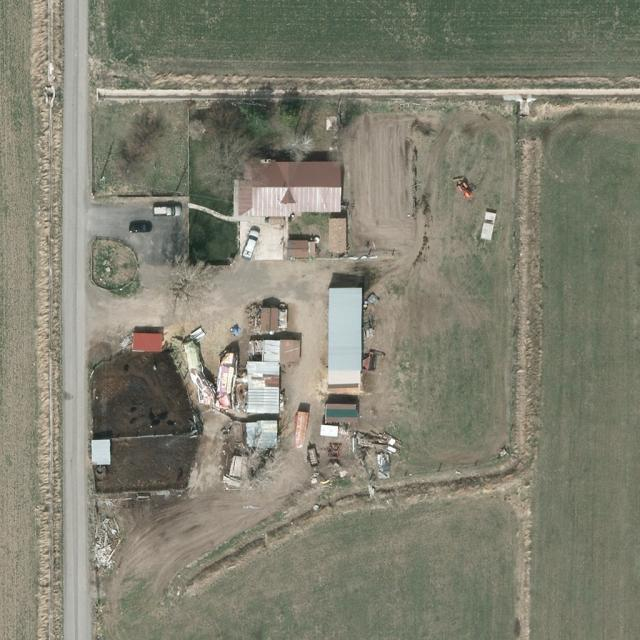vehicle: (241, 229, 261, 262), (154, 206, 182, 216), (129, 222, 152, 234)
